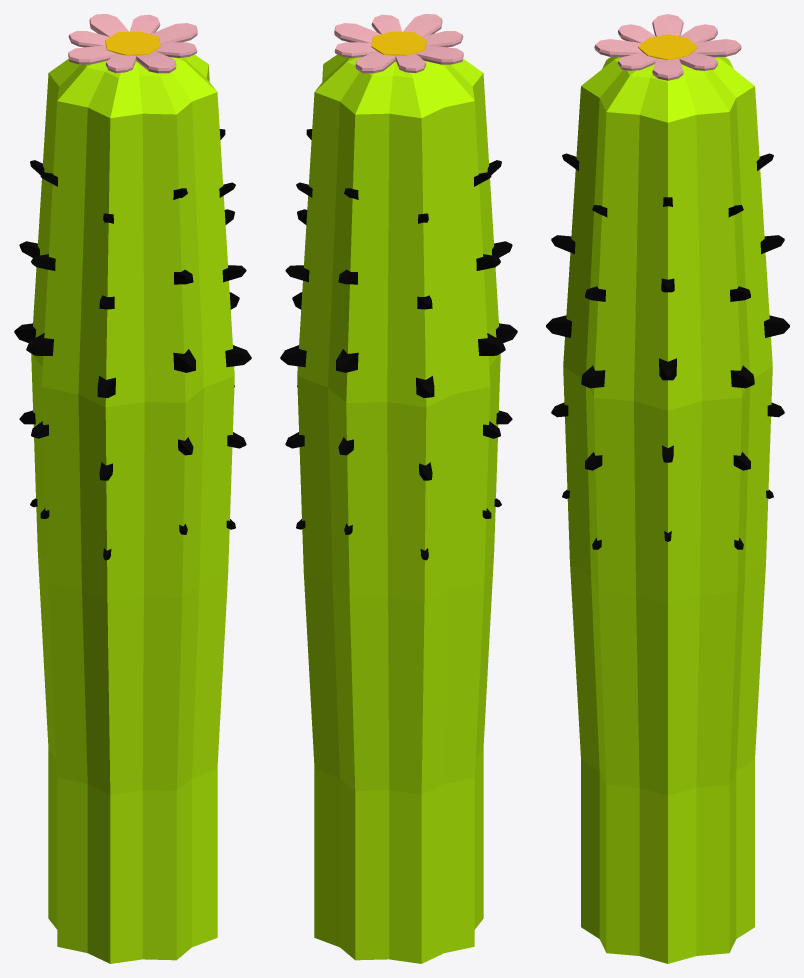
File: Cardon05_00Brazos_Flor_Rosada.fbx
The picture shows the model from 3 angles, left to right: view 1: azimuth 30°, elevation 25°; view 2: azimuth 150°, elevation 25°; view 3: azimuth 270°, elevation 25°; orthographic projection.
Parts seen in each view (by area): view 1: Cactus, Espinas, Flor_Rosada; view 2: Cactus, Espinas, Flor_Rosada; view 3: Cactus, Espinas, Flor_Rosada.
Part boxes in pixels (<box>): Cactus: <box>31,54,234,963</box>; Espinas: <box>14,129,251,560</box>; Flor_Rosada: <box>68,14,197,73</box>; Cactus: <box>297,54,500,963</box>; Espinas: <box>280,129,517,560</box>; Flor_Rosada: <box>334,14,463,73</box>; Cactus: <box>563,57,772,963</box>; Espinas: <box>546,153,789,549</box>; Flor_Rosada: <box>594,14,741,80</box>.
Size of the model in its own units: 53.18 by 212 by 53.18.
